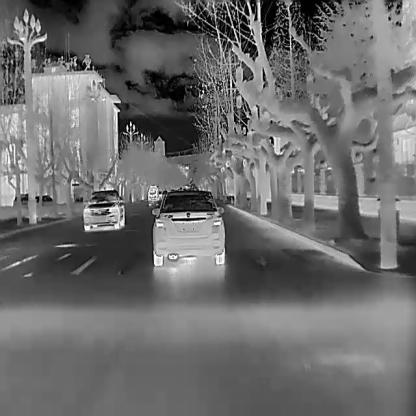car: (152, 189, 224, 266), (82, 189, 125, 230), (11, 192, 39, 204), (40, 193, 52, 201)
truck: (147, 186, 157, 202)
